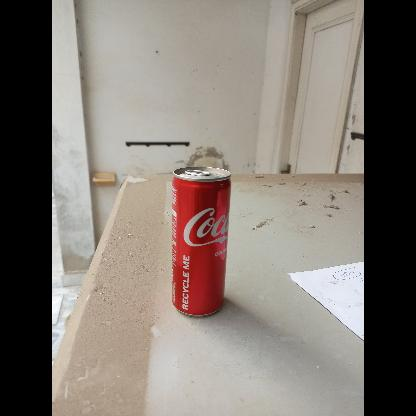Tin_Can: (169, 165, 231, 319)
